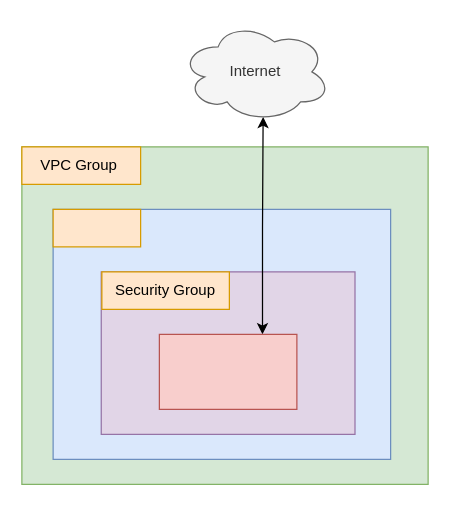
Image size: 450x506. Some labels were removed from this diagram. The centre of each missing label's shape, as x and y in pixels:
"vSwitch" goes at point (96, 227).
"Windows 2016 ECS Instance" goes at point (227, 371).
